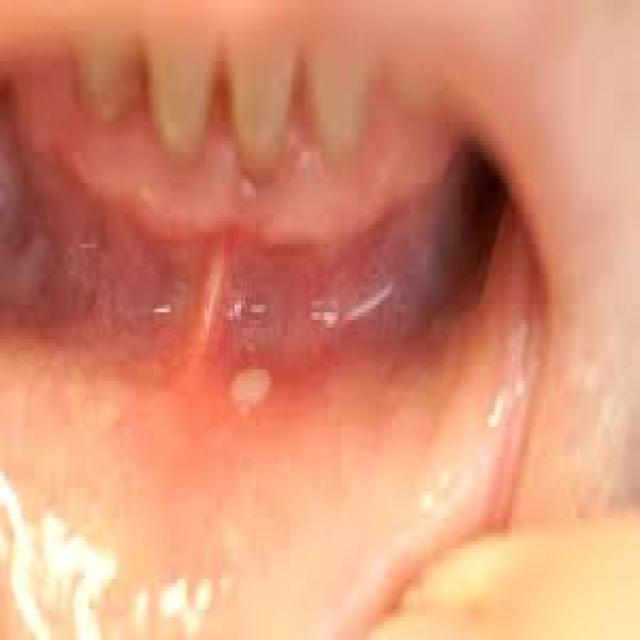processing_area: (0, 74, 526, 636)
ulcer-detection: (205, 325, 296, 454)
